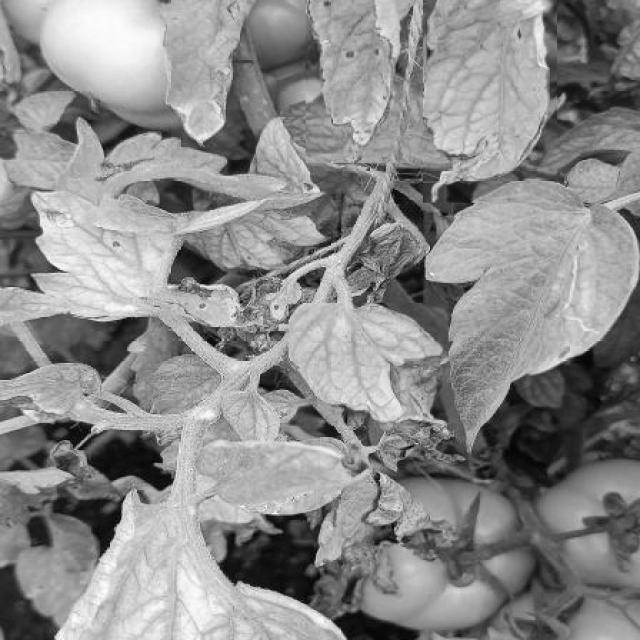Early Blight: (423, 0, 557, 203), (288, 303, 449, 426), (305, 0, 409, 164)
